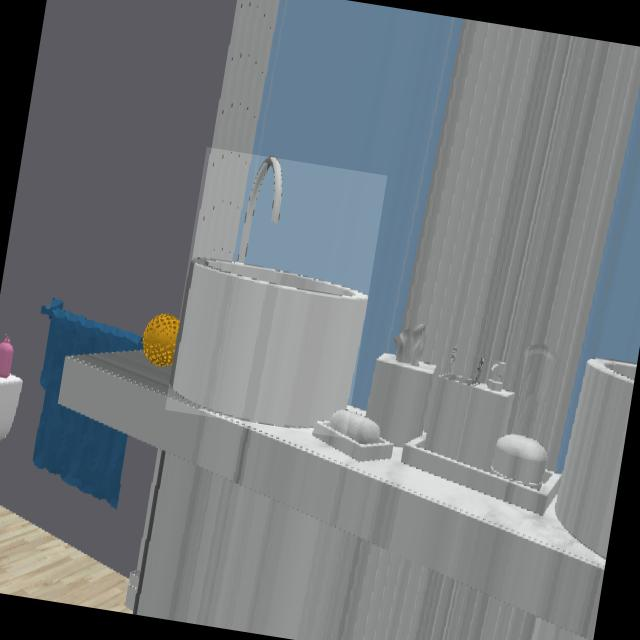washbasin: (169, 157, 368, 429)
